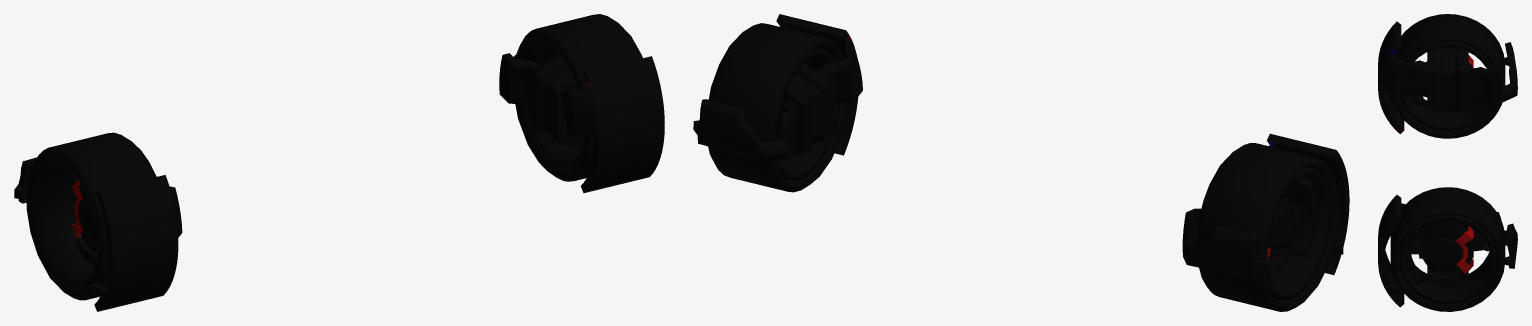
The model's file is Terrenator_rearRightWheel.obj.
3 renders of one model, left to right at view 1: azimuth 30°, elevation 25°; view 2: azimuth 150°, elevation 25°; view 3: azimuth 270°, elevation 25°, orthographic. The views are drawn at different scales.
Visible parts, largest first — view 1: KPBL, BR, KPBR, BL; view 2: BR, BL, KPBL, KPBR; view 3: BL, KPBR, BR, KPBL.
Part boxes in pixels (box(x1,y1,x2,y2)): KPBL: box(499, 53, 664, 192); BR: box(26, 132, 156, 300); KPBR: box(14, 157, 182, 311); BL: box(515, 14, 642, 181); BR: box(1196, 143, 1339, 311); BL: box(708, 23, 848, 192); KPBL: box(693, 14, 862, 161); KPBR: box(1182, 133, 1349, 279); BL: box(1390, 187, 1505, 311); KPBR: box(1378, 21, 1517, 133); BR: box(1391, 14, 1505, 138); KPBL: box(1378, 195, 1517, 307).
Bounding box in the file's own units: 8.11 × 1.94 × 2.36.
1 material, 1 textured.
